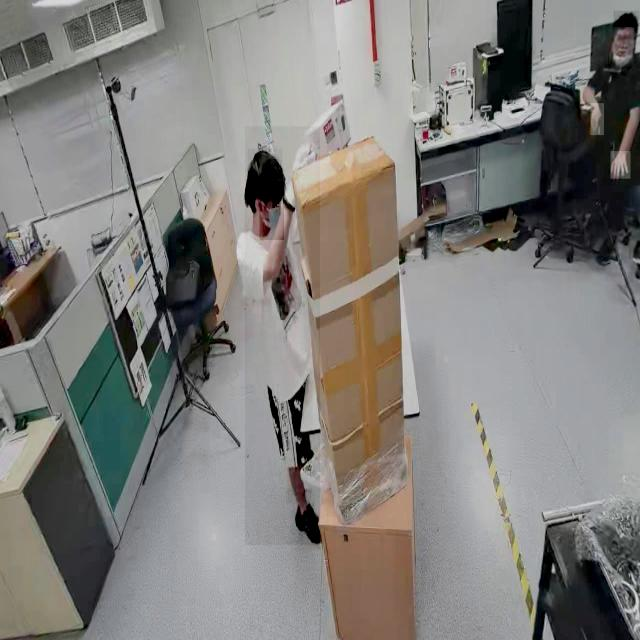face_mask: (260, 193, 284, 240)
hand_noglove: (610, 151, 630, 180), (590, 103, 604, 136)
head_nohelmet: (247, 148, 283, 180), (613, 10, 639, 28)
person: (244, 126, 320, 546), (573, 17, 640, 273)
shoes: (294, 495, 326, 554)
